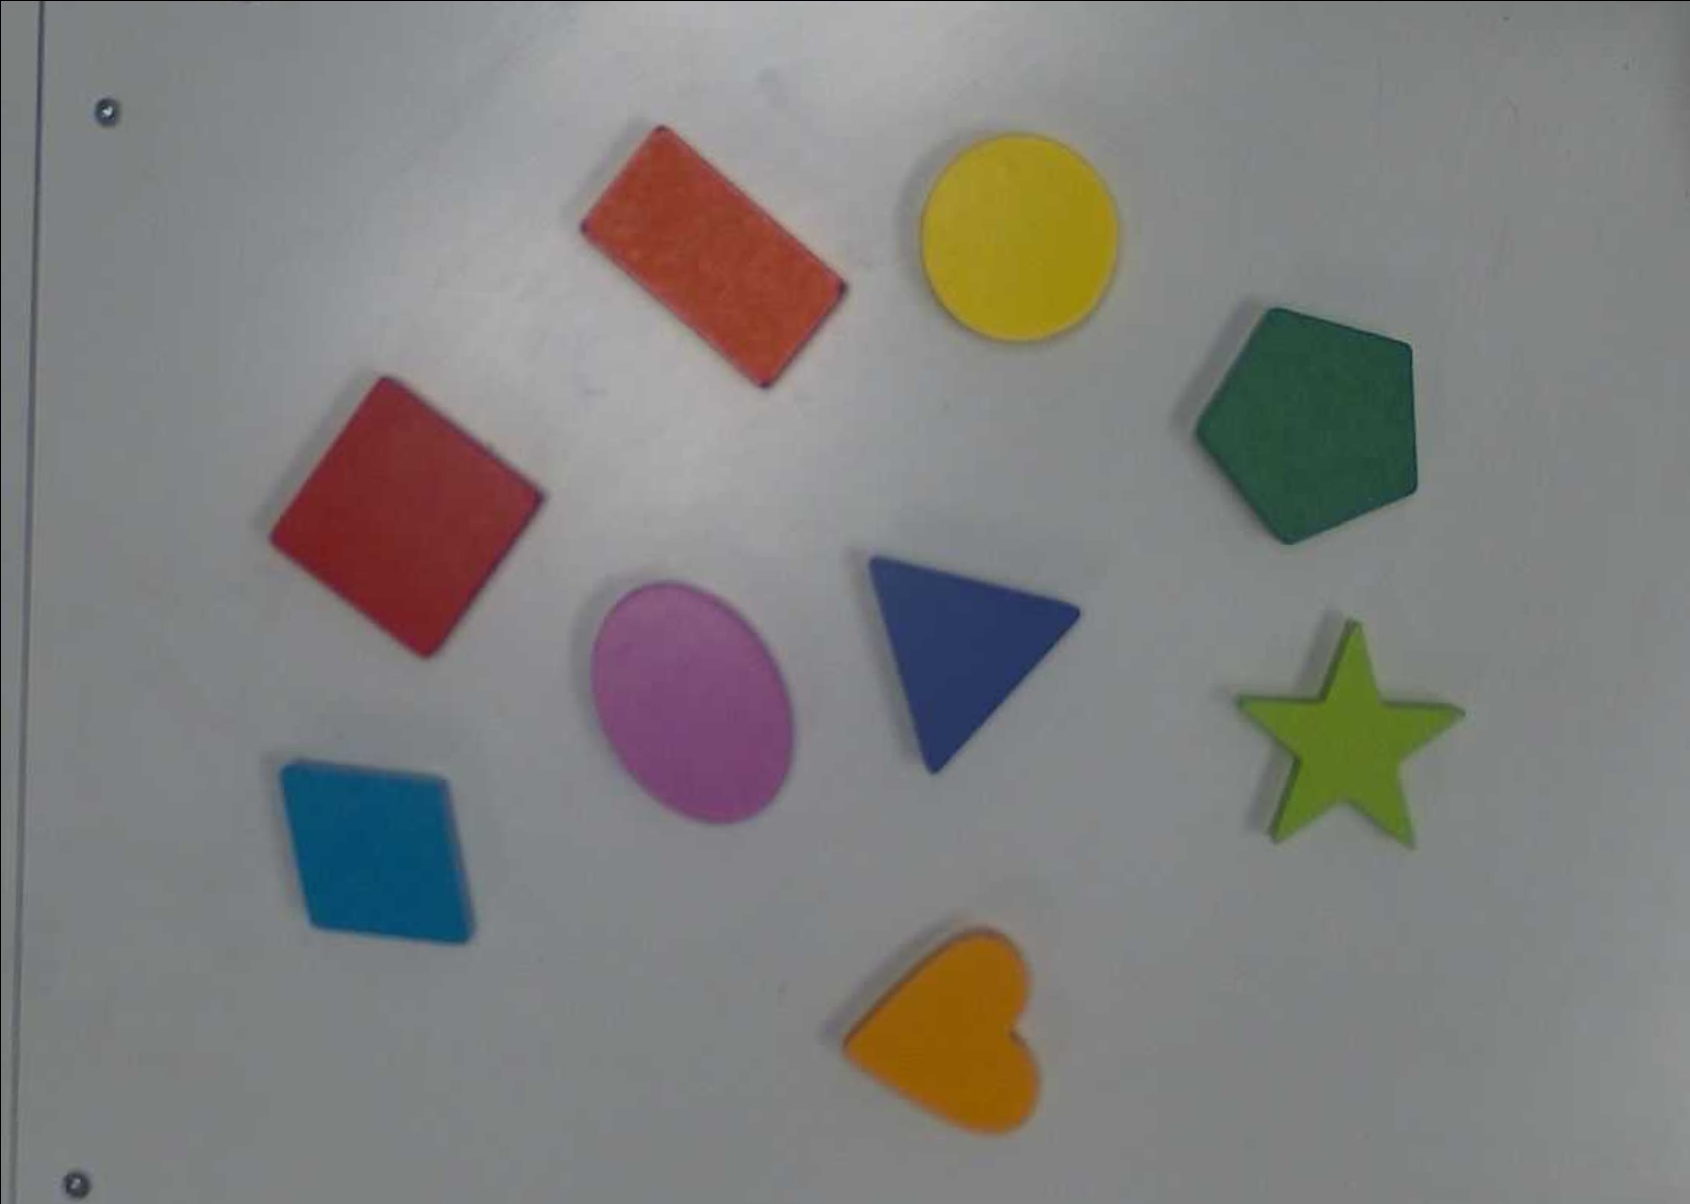Circle: (916, 129, 1124, 347)
Ellipse: (586, 577, 797, 825)
Heart: (833, 928, 1046, 1135)
Parallelogram: (278, 754, 480, 950)
Pentagon: (1191, 301, 1422, 550)
Rectangle: (577, 124, 853, 387)
Square: (266, 374, 547, 657)
Star: (1235, 616, 1471, 853)
Triangle: (864, 555, 1084, 774)
